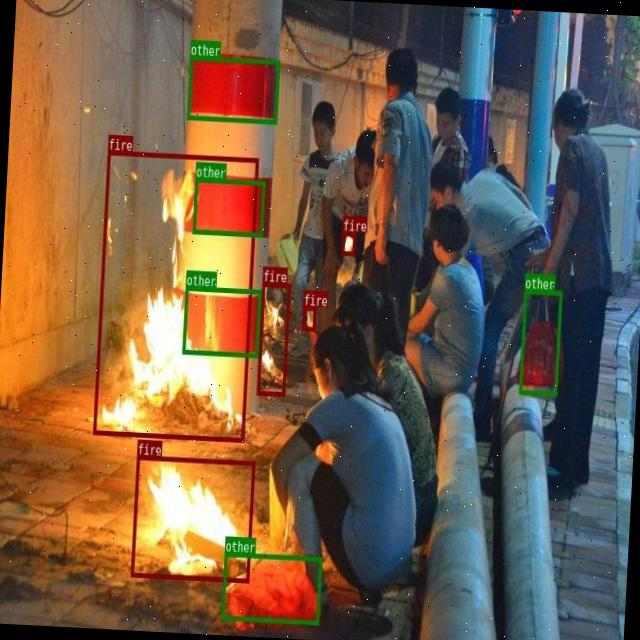fire: (92, 150, 258, 442), (130, 456, 254, 582), (256, 282, 291, 395), (340, 231, 356, 255), (302, 305, 316, 330)
